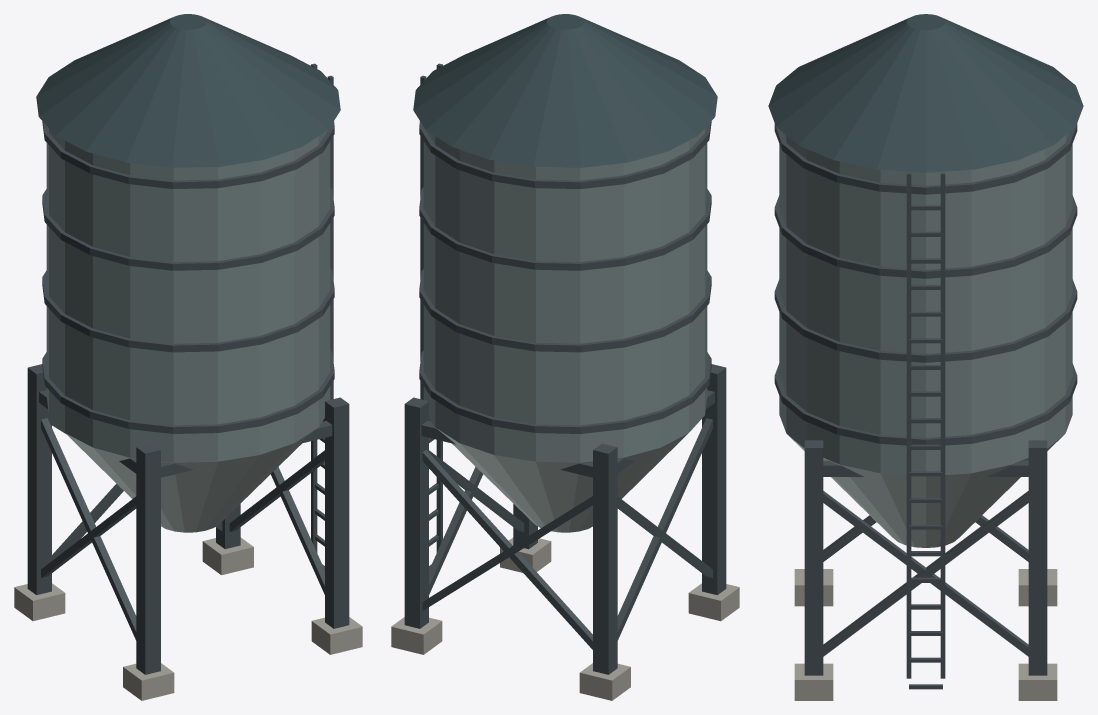
Rendered from sawdust_silo.glb.
3 views of the same model, side by side, from view 1: azimuth 30°, elevation 25°; view 2: azimuth 150°, elevation 25°; view 3: azimuth 270°, elevation 25° (orthographic). The views are drawn at different scales.
Visible parts, largest first — view 1: sawdust_silo; view 2: sawdust_silo; view 3: sawdust_silo.
Boxes of the visible parts, x1,y1,x2,y2 form: sawdust_silo: (14, 14, 362, 700); sawdust_silo: (391, 14, 739, 700); sawdust_silo: (768, 14, 1083, 700).
Bounding box in the file's own units: 4.14 × 8.9 × 4.08.
